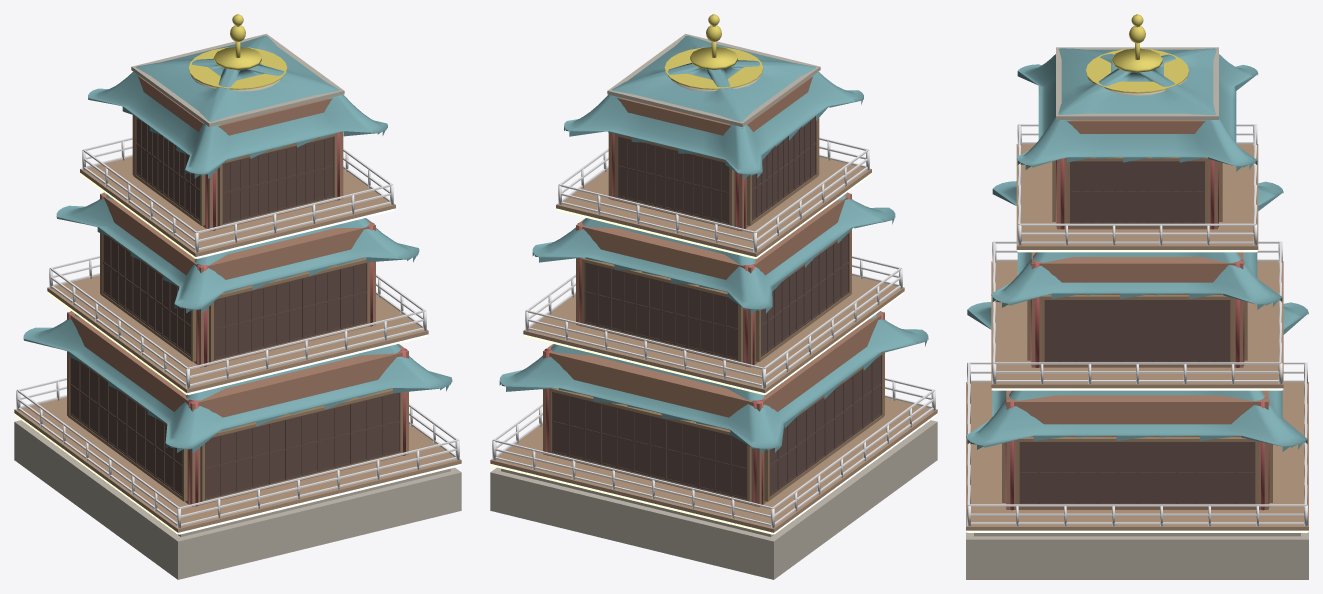
The model's file is lib_lau_cac.lod.glb.
3 renders of one model, left to right at view 1: azimuth 30°, elevation 25°; view 2: azimuth 150°, elevation 25°; view 3: azimuth 270°, elevation 25°, orthographic. The views are drawn at different scales.
Parts seen in each view (by area): view 1: khoi_tang; view 2: khoi_tang; view 3: khoi_tang.
Part boxes in pixels (box(x1,y1,x2,y2)): khoi_tang: box(14, 14, 461, 579); khoi_tang: box(490, 14, 937, 579); khoi_tang: box(966, 14, 1308, 579).
Size of the model in its own units: 17 by 27 by 17.
Materials: 2 (2 with a texture image).
